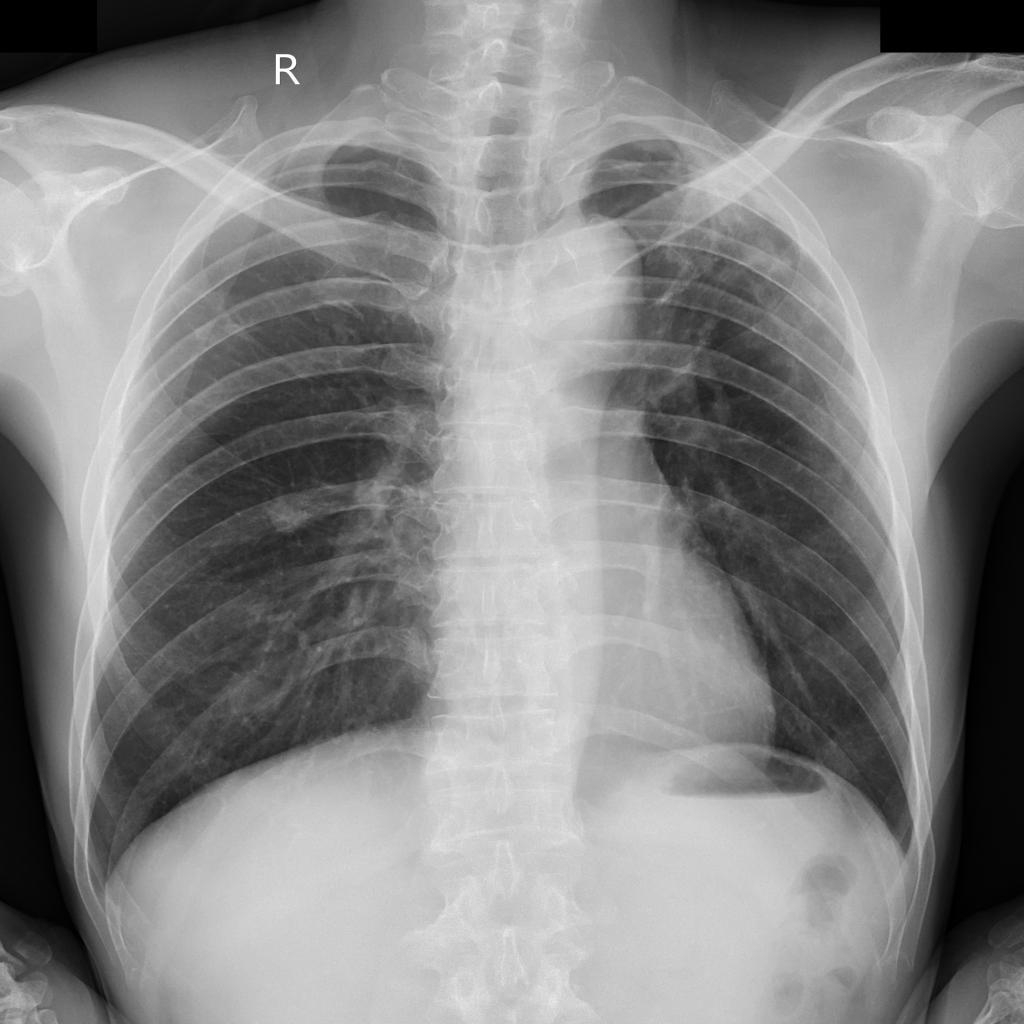Nodule: (264, 493, 312, 530)
